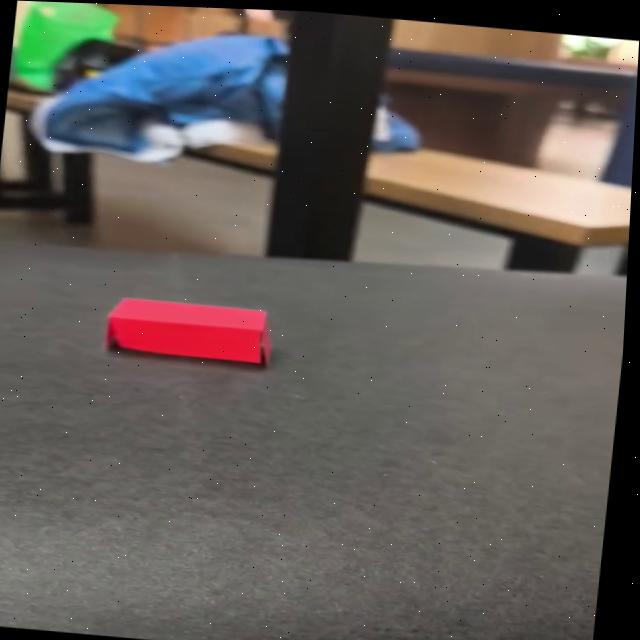red block: (102, 293, 278, 366)
